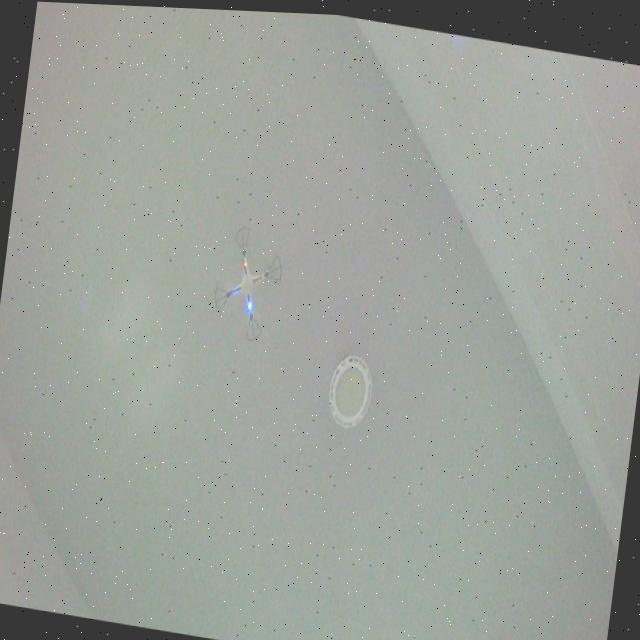drone: (205, 214, 288, 346)
